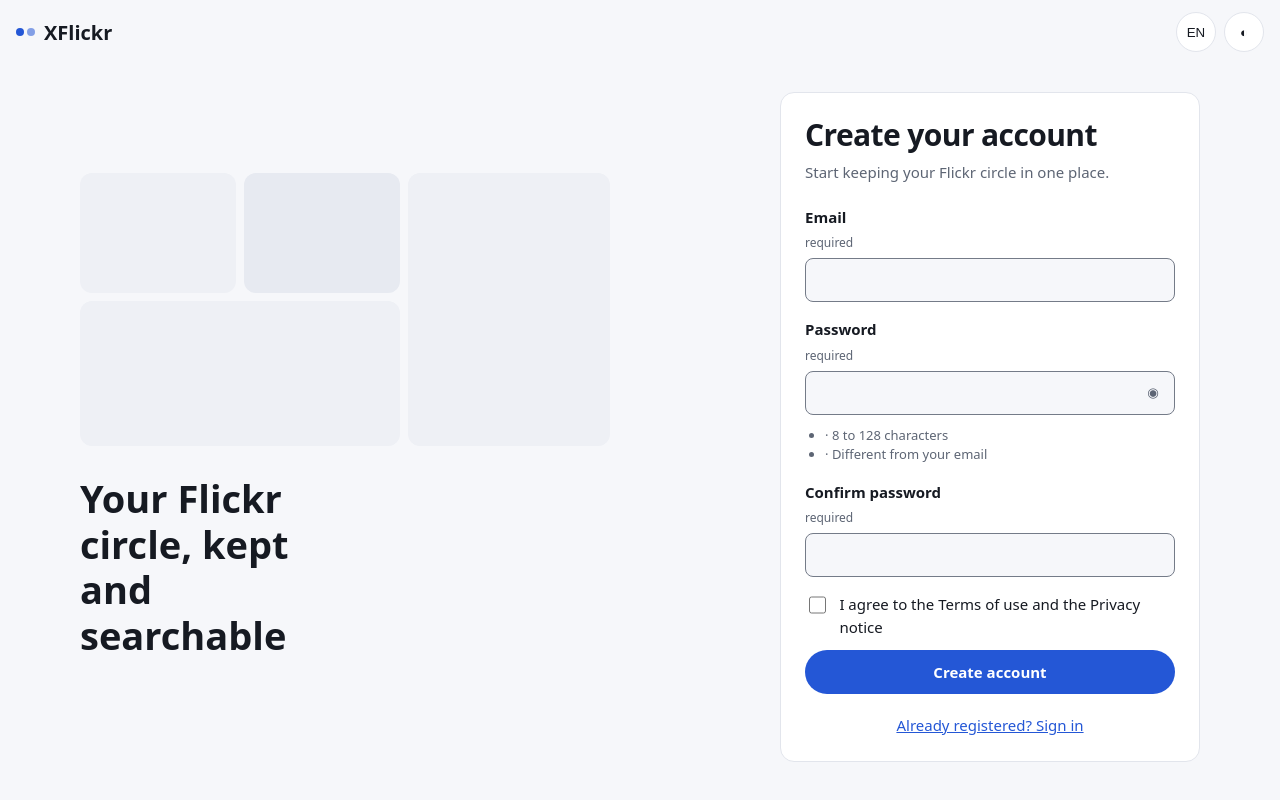
Test case: RegisterPage › validates the password and required terms before submitting
In the field with test id "auth-register-email": (990, 280) left=805, top=258, right=1175, bottom=302, type "new@example.test"
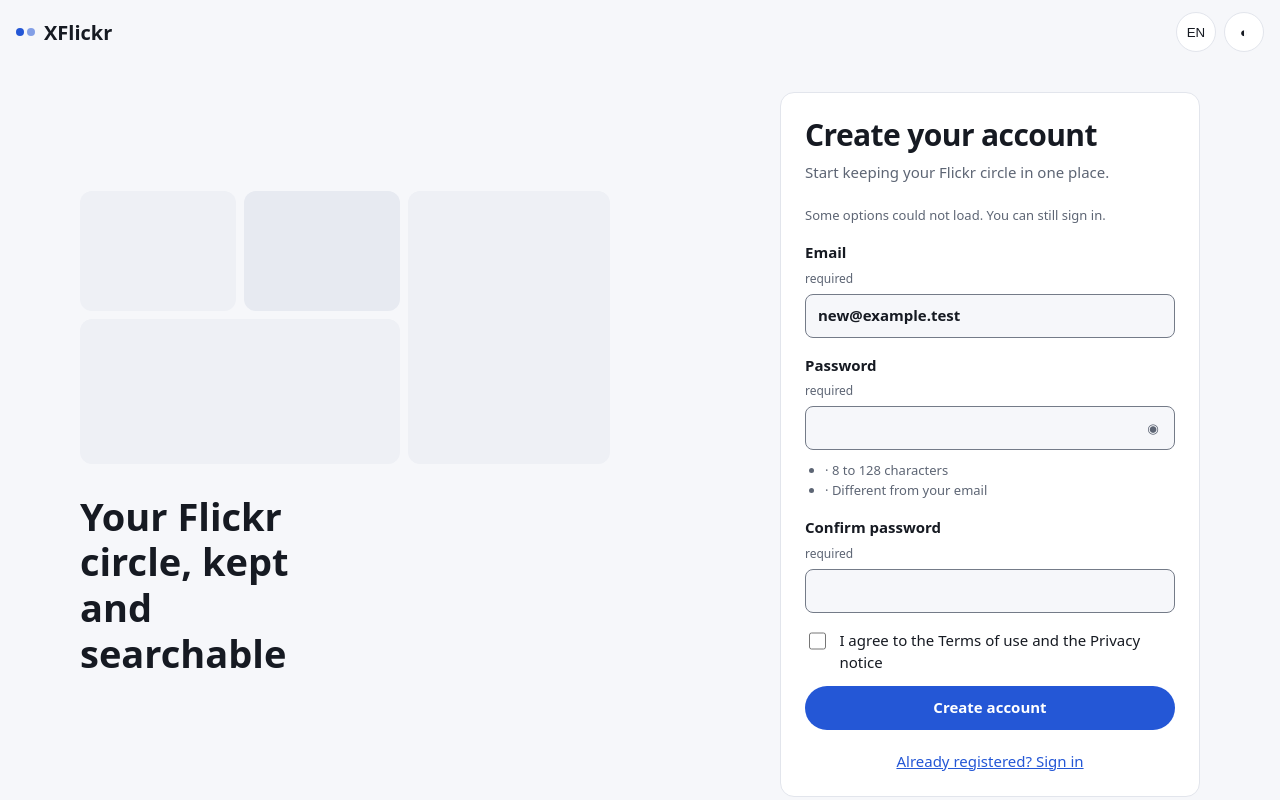
In the password field with test id "auth-register-password": (990, 428) left=805, top=406, right=1175, bottom=450, type "short"
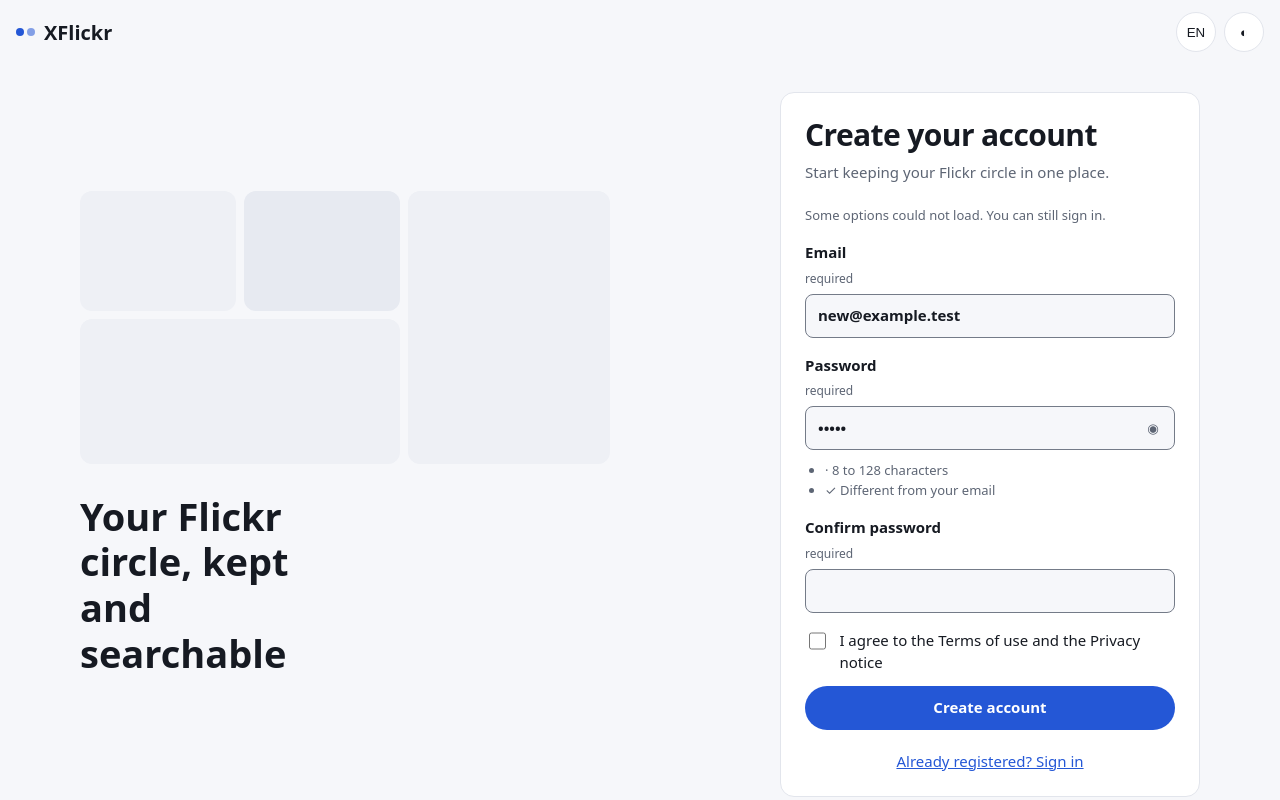
Click the button with test id "auth-register-submit": (990, 708) left=805, top=686, right=1175, bottom=730
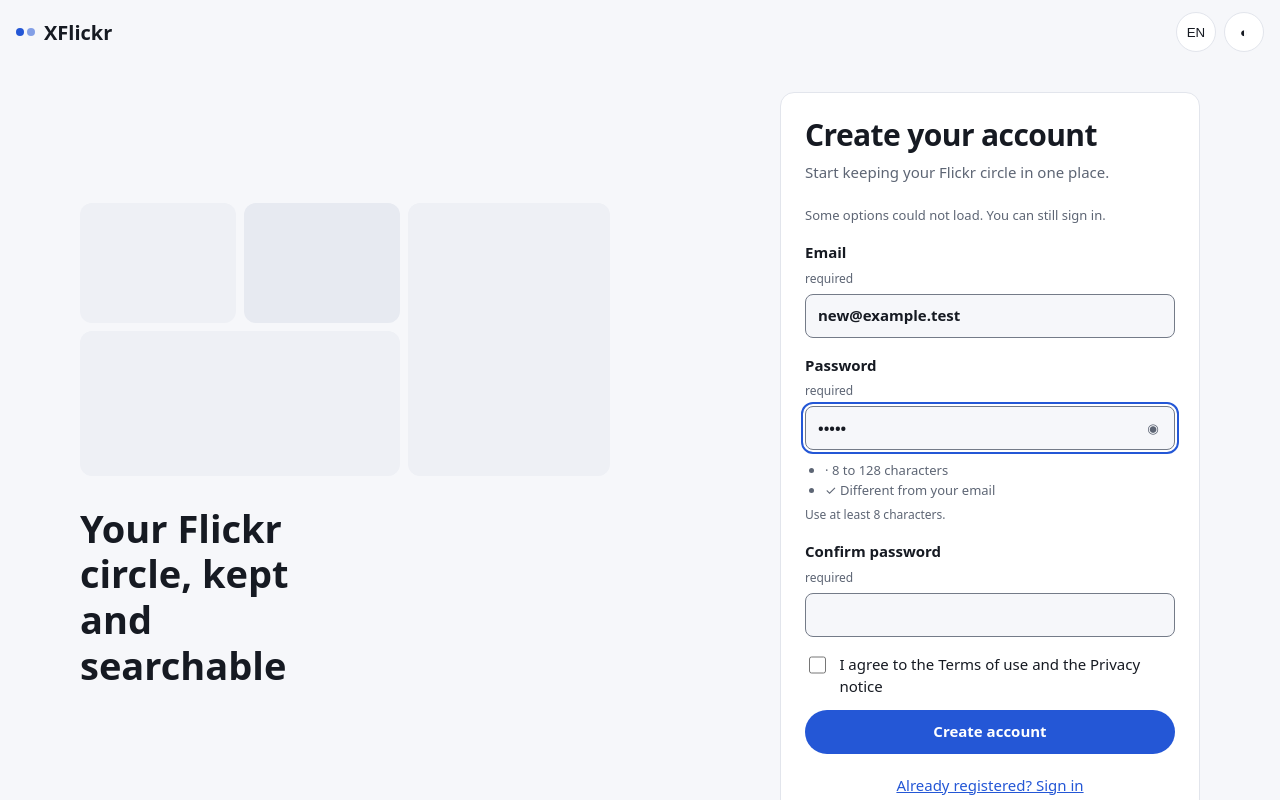
Now the text with test id "auth-error-password" shows "at least 8", box left=805, top=506, right=946, bottom=523
